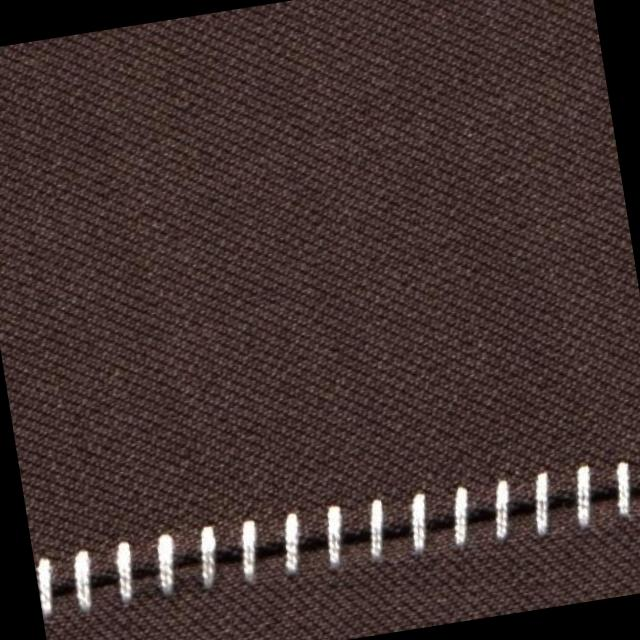gray stitch: (32, 446, 640, 629)
